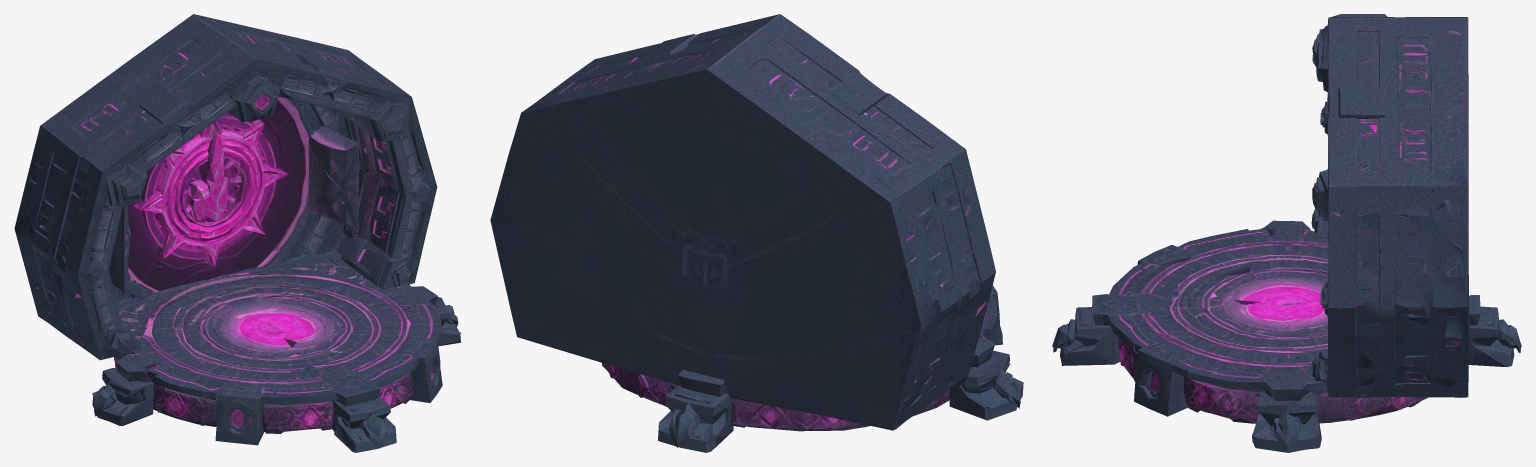
Rendered from mx_sg_core.glb.
3 renders of one model, left to right at view 1: azimuth 30°, elevation 25°; view 2: azimuth 150°, elevation 25°; view 3: azimuth 270°, elevation 25°, orthographic. The views are drawn at different scales.
Bounding box in the file's own units: 1.9 × 1.51 × 1.9.
Materials: 1 (1 with a texture image).
